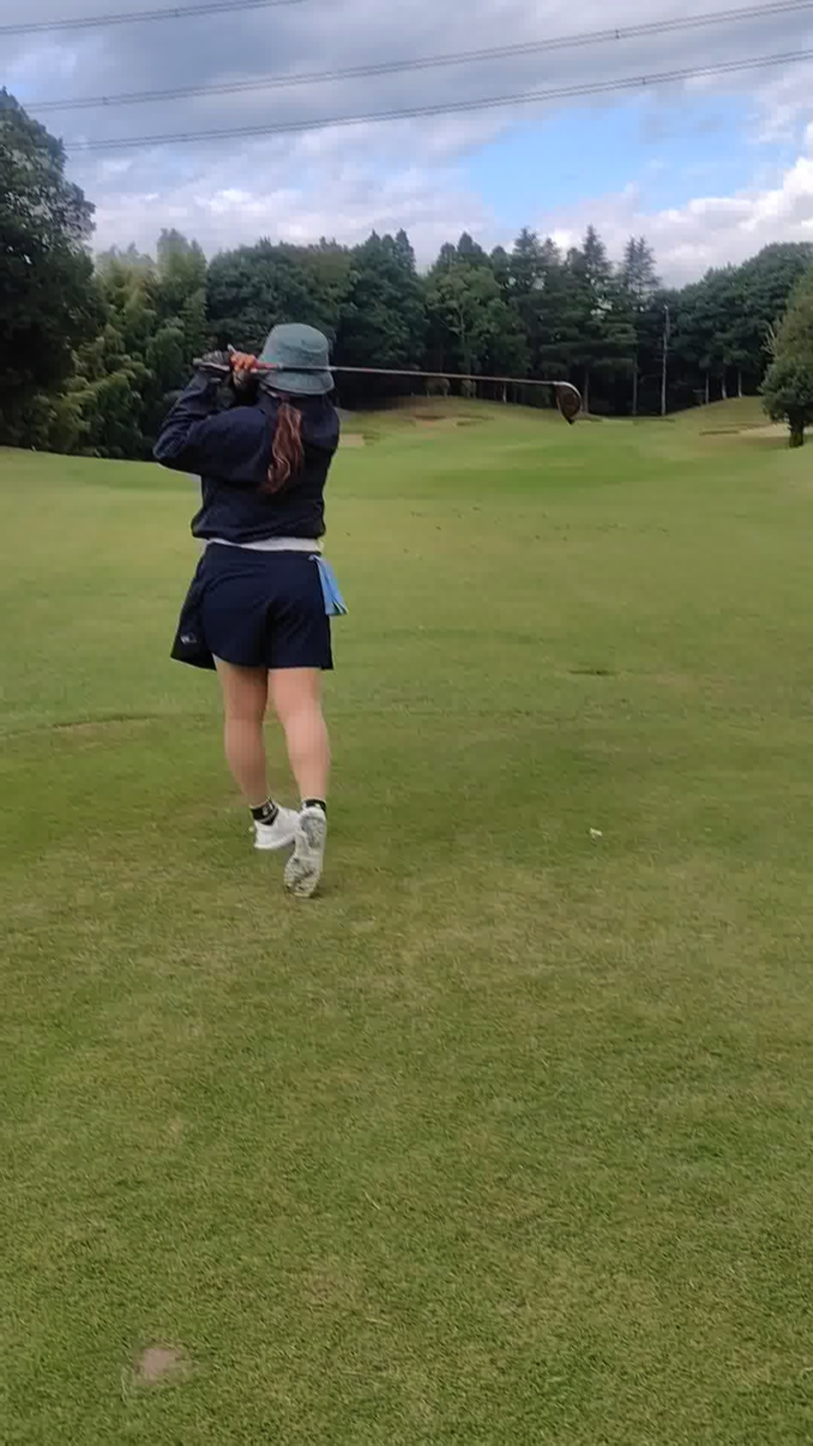clubhead: (492, 361, 655, 486)
